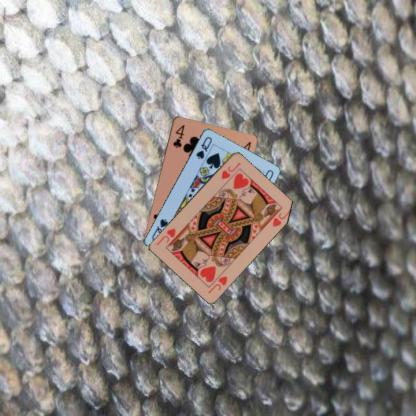4c: (170, 122, 186, 149)
Jh: (206, 268, 228, 295), (218, 160, 242, 180)
Qs: (194, 134, 213, 160)
